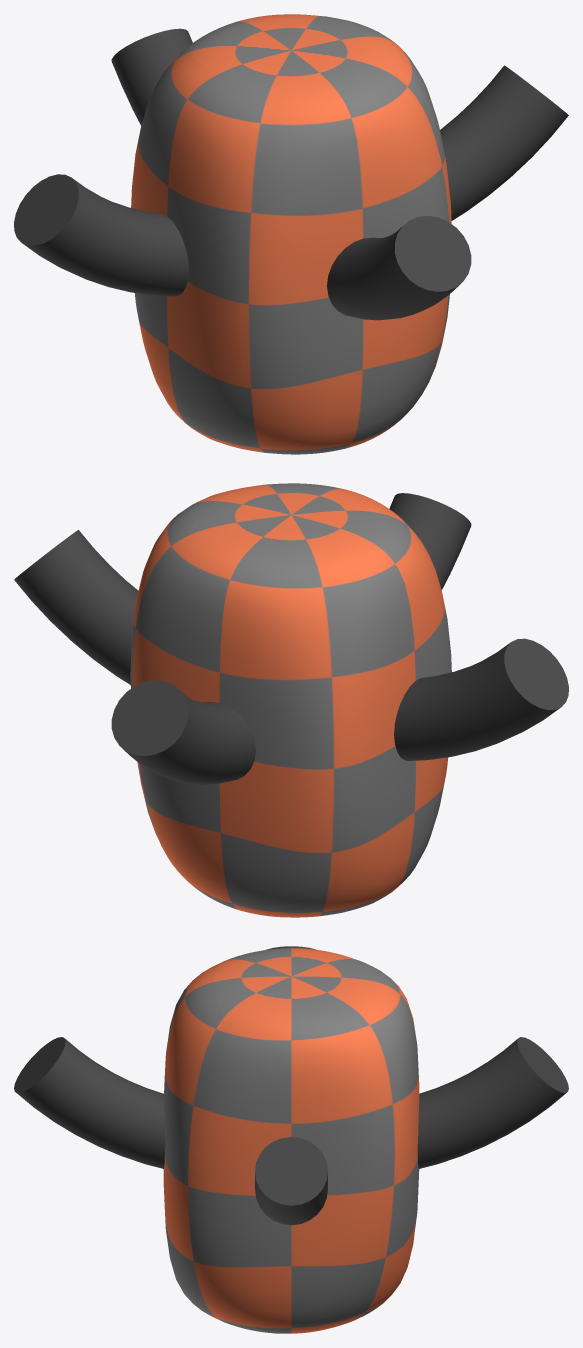
Rendered from Body(Oblong)+Colour(More_Orange)+Arms(Bent_Up)+Pattern(Checkered).fbx.
The picture shows the model from 3 angles, top to bottom: view 1: azimuth 30°, elevation 25°; view 2: azimuth 150°, elevation 25°; view 3: azimuth 270°, elevation 25°; orthographic projection. The views are drawn at different scales.
Parts seen in each view (by area): view 1: Body(Oblong)+Colour(More_Orange)+Arms(Bent_Up)+Pattern(Check (×5); view 2: Body(Oblong)+Colour(More_Orange)+Arms(Bent_Up)+Pattern(Check (×5); view 3: Body(Oblong)+Colour(More_Orange)+Arms(Bent_Up)+Pattern(Check (×4).
Boxes of the visible parts, bbox=[...] form: Body(Oblong)+Colour(More_Orange)+Arms(Bent_Up)+Pattern(Check (×5): bbox=[14, 14, 568, 454]; Body(Oblong)+Colour(More_Orange)+Arms(Bent_Up)+Pattern(Check (×5): bbox=[14, 483, 568, 917]; Body(Oblong)+Colour(More_Orange)+Arms(Bent_Up)+Pattern(Check (×4): bbox=[14, 948, 568, 1333].
Bounding box in the file's own units: 60.67 × 40 × 60.67.
2 materials, 2 textured.
